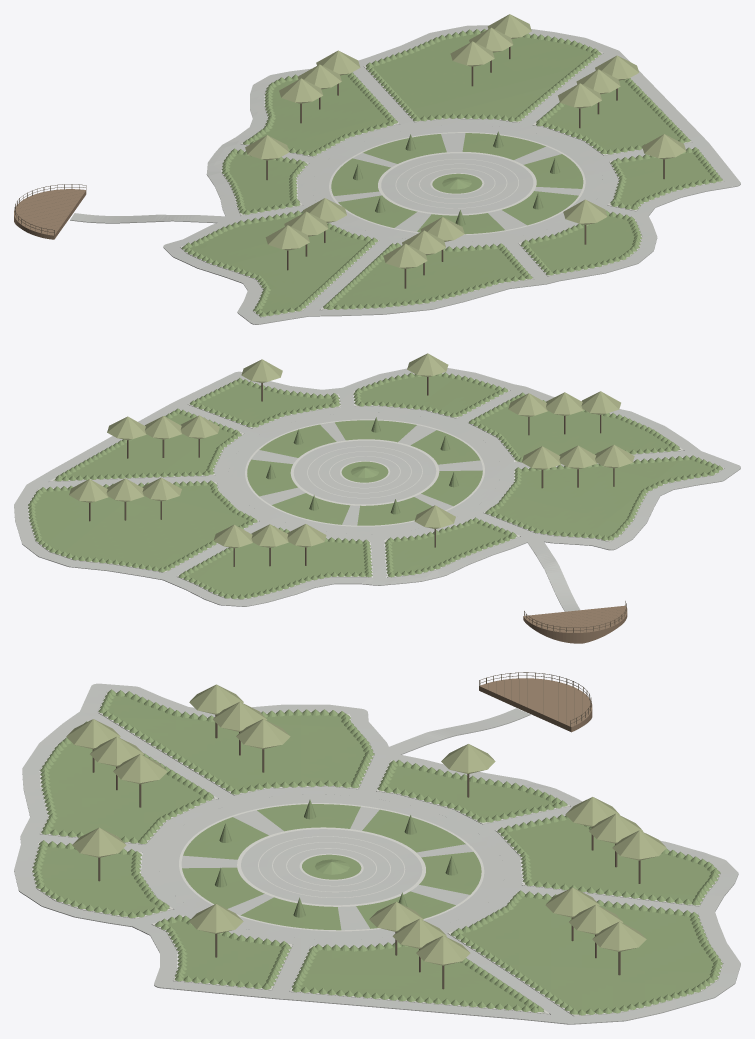
3 renders of one model, top to bottom at view 1: azimuth 30°, elevation 25°; view 2: azimuth 150°, elevation 25°; view 3: azimuth 270°, elevation 25°, orthographic. The views are drawn at different scales.
Visible parts, largest first — view 1: mugunghwa-garden; view 2: mugunghwa-garden; view 3: mugunghwa-garden.
Boxes of the visible parts, x1=… form: mugunghwa-garden: x1=14, y1=14, x2=740, y2=324; mugunghwa-garden: x1=14, y1=353, x2=740, y2=643; mugunghwa-garden: x1=14, y1=672, x2=740, y2=1024.
Bounding box in the file's own units: 108 × 12.78 × 93.06.
